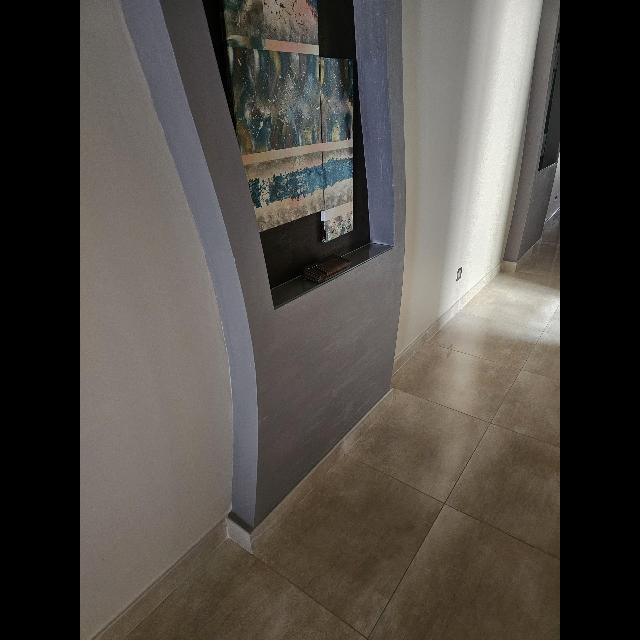Wallet: (302, 253, 352, 283)
